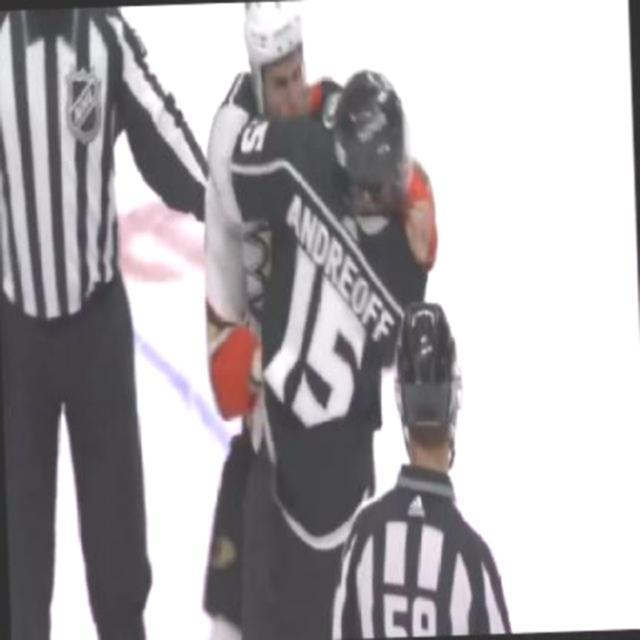fight: (196, 0, 447, 545)
